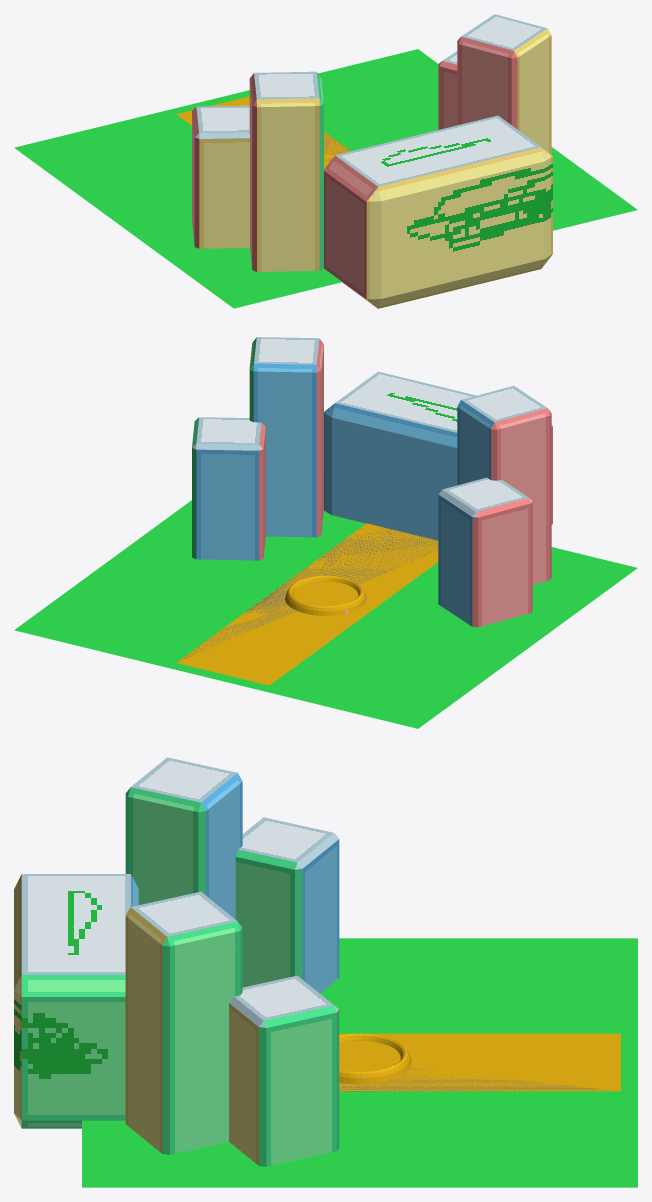
Rendered from buildings.gltf.
3 renders of one model, top to bottom at view 1: azimuth 30°, elevation 25°; view 2: azimuth 150°, elevation 25°; view 3: azimuth 270°, elevation 25°, orthographic. The views are drawn at different scales.
Visible parts, largest first — view 1: beveled_cuboid (×5), cuboid (×2); view 2: beveled_cuboid (×5), cuboid (×2), torus, cylinder; view 3: beveled_cuboid (×5), cuboid (×2), cylinder, torus.
Part boxes in pixels (x1,y1,x2,y2): beveled_cuboid (×5): (192,14,552,308); cuboid (×2): (14,49,637,308); beveled_cuboid (×5): (192,337,552,627); cuboid (×2): (14,500,637,728); torus: (285,576,366,615); cylinder: (293,581,358,606); beveled_cuboid (×5): (14,757,339,1166); cuboid (×2): (82,938,637,1187); cylinder: (339,1040,400,1071); torus: (339,1033,411,1084).
Bounding box in the file's own units: 6.5 × 3.87 × 6.88.
Materials: 1 (1 with a texture image).
